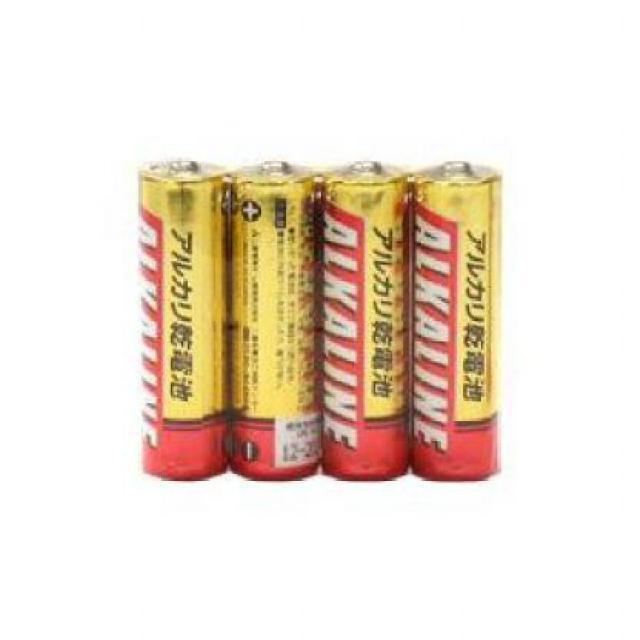AA: (404, 152, 508, 486), (136, 148, 232, 490), (317, 156, 414, 490), (223, 156, 317, 489)
